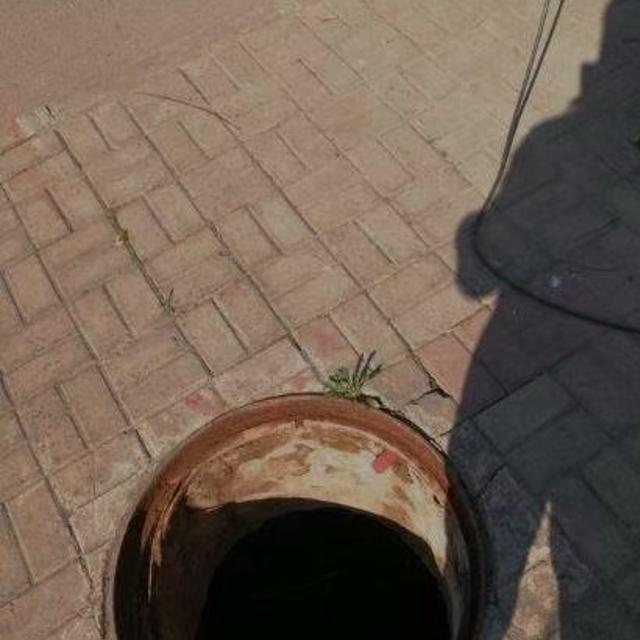lose: (60, 353, 508, 640)
